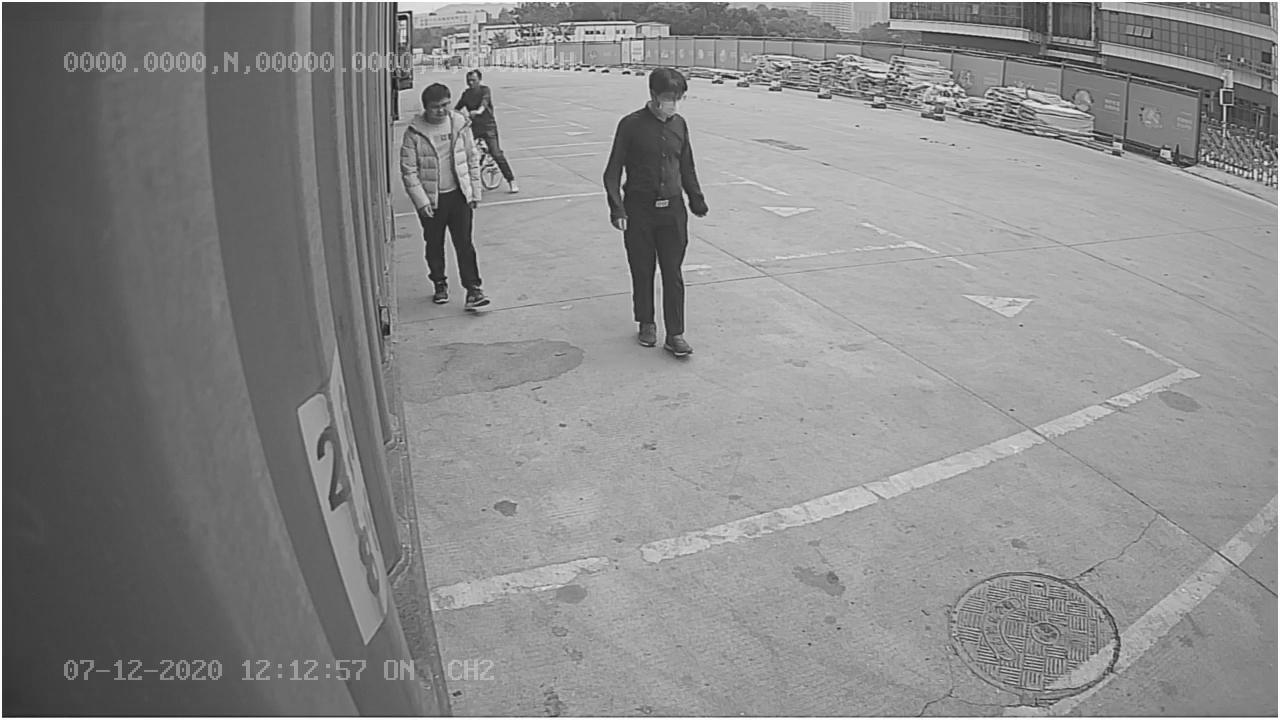person: (603, 65, 711, 362)
